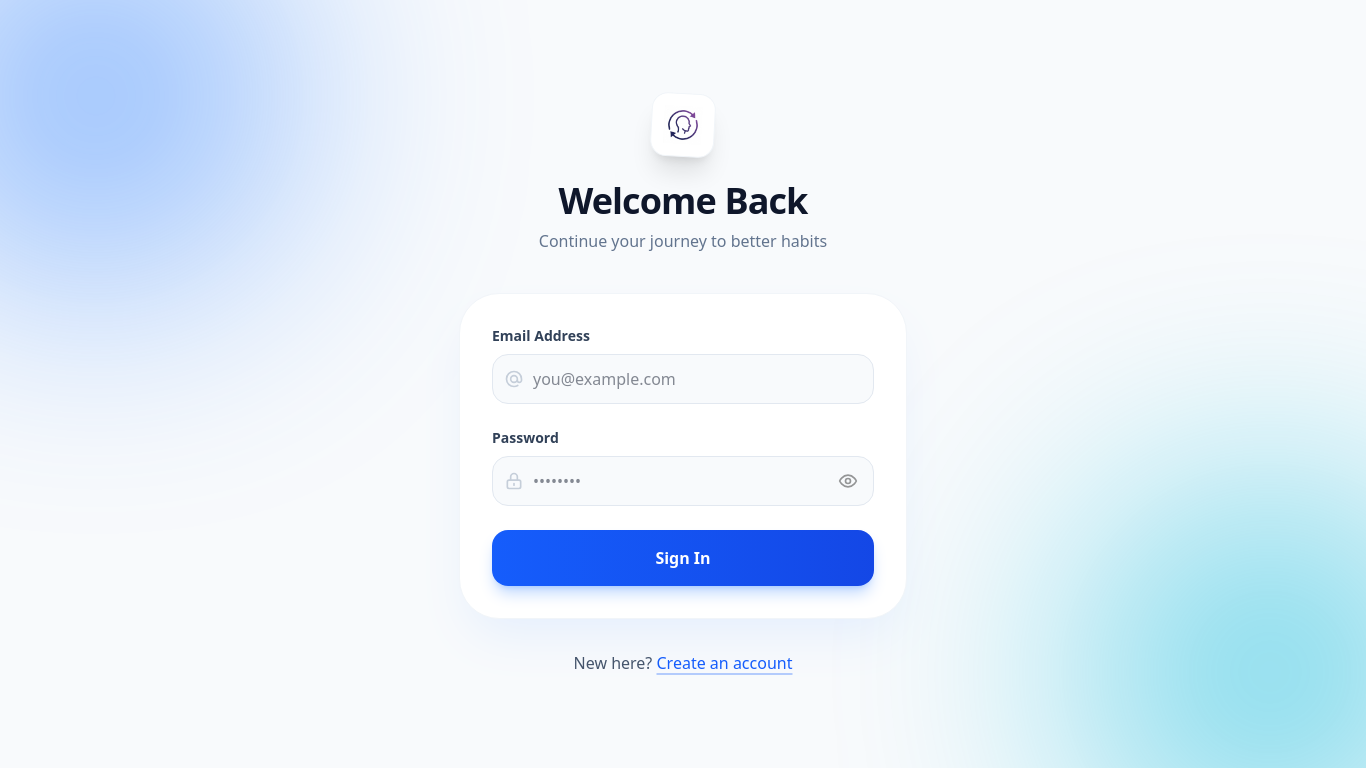
Test: auth flow › shows an error for invalid login credentials
In the field with test id "auth-login-email": (683,379) top-left (492, 354), bottom-right (874, 404), type "wrong@example.com"
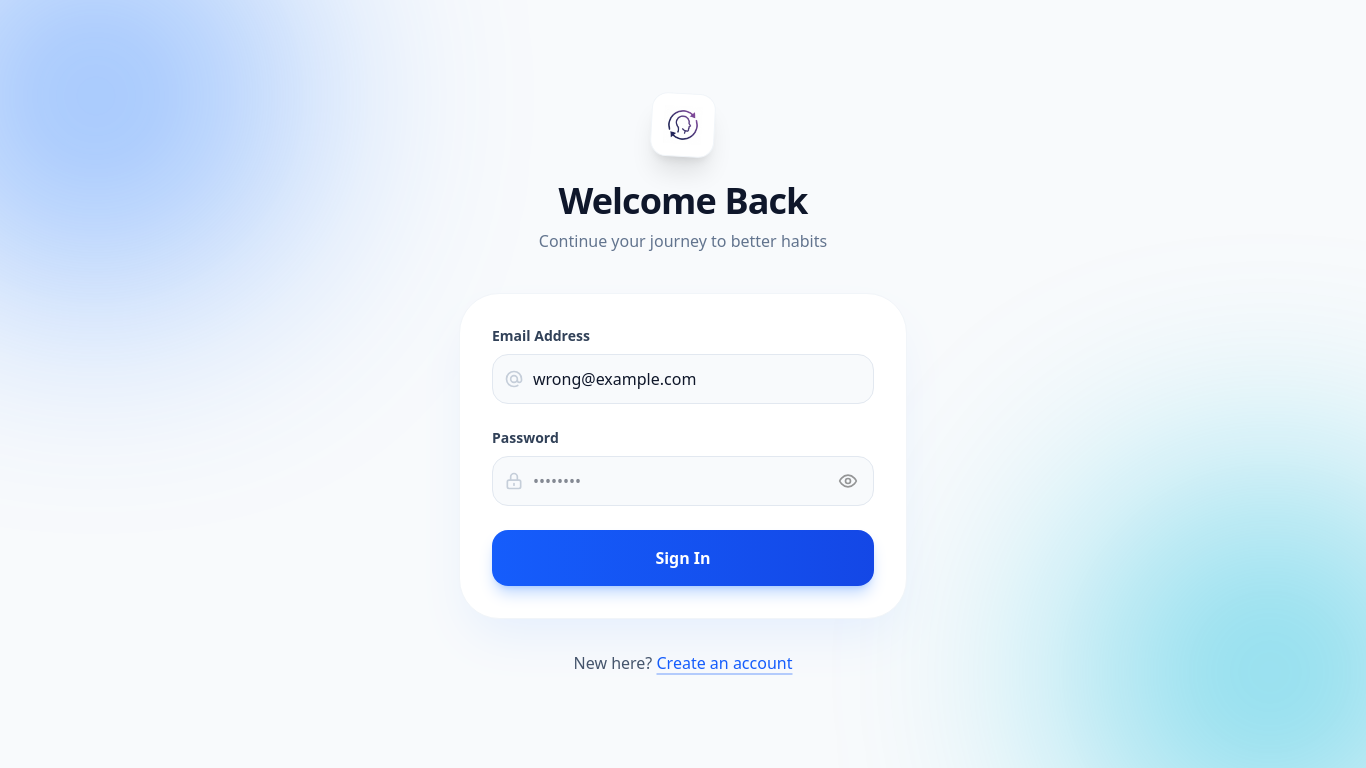
In the password field with test id "auth-login-password": (683,481) top-left (492, 456), bottom-right (874, 506), type "wrong"
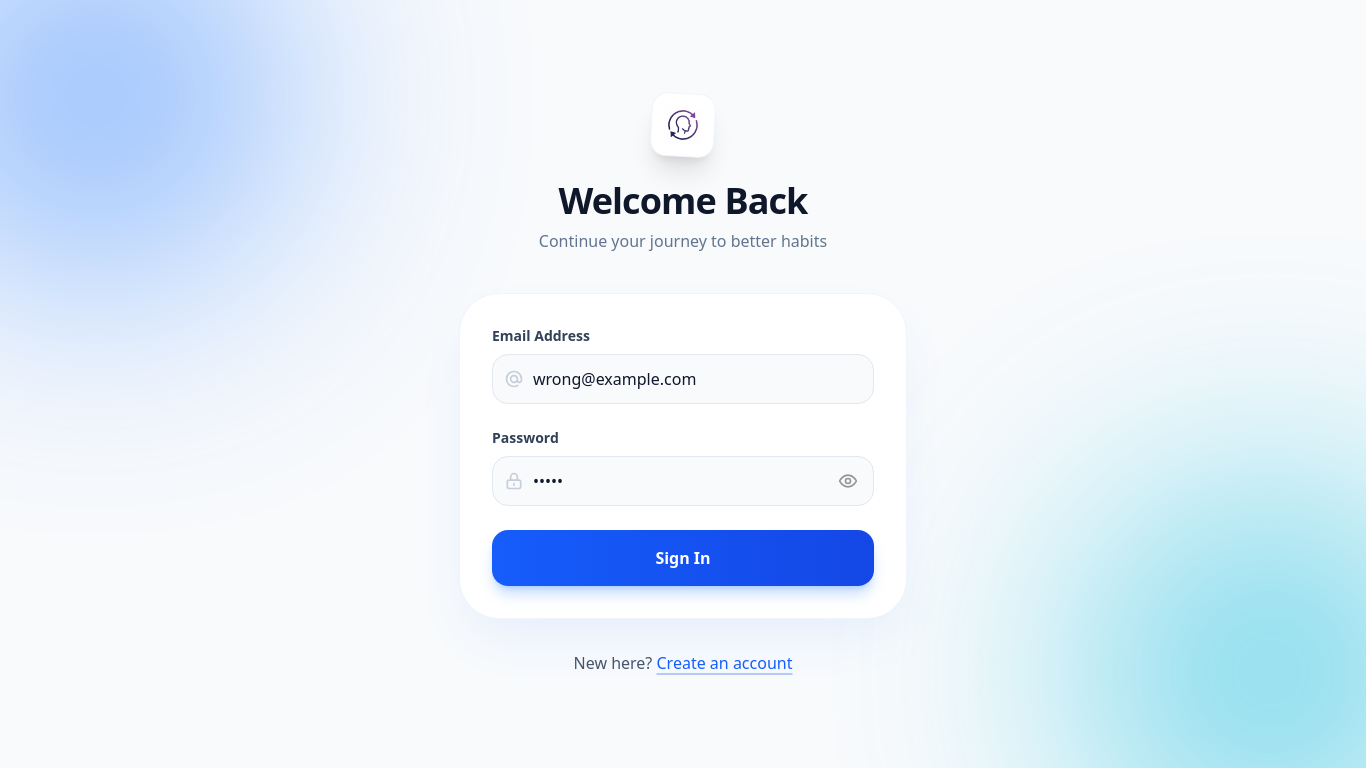
Click the button with test id "auth-login-submit": (683,558) top-left (492, 530), bottom-right (874, 586)
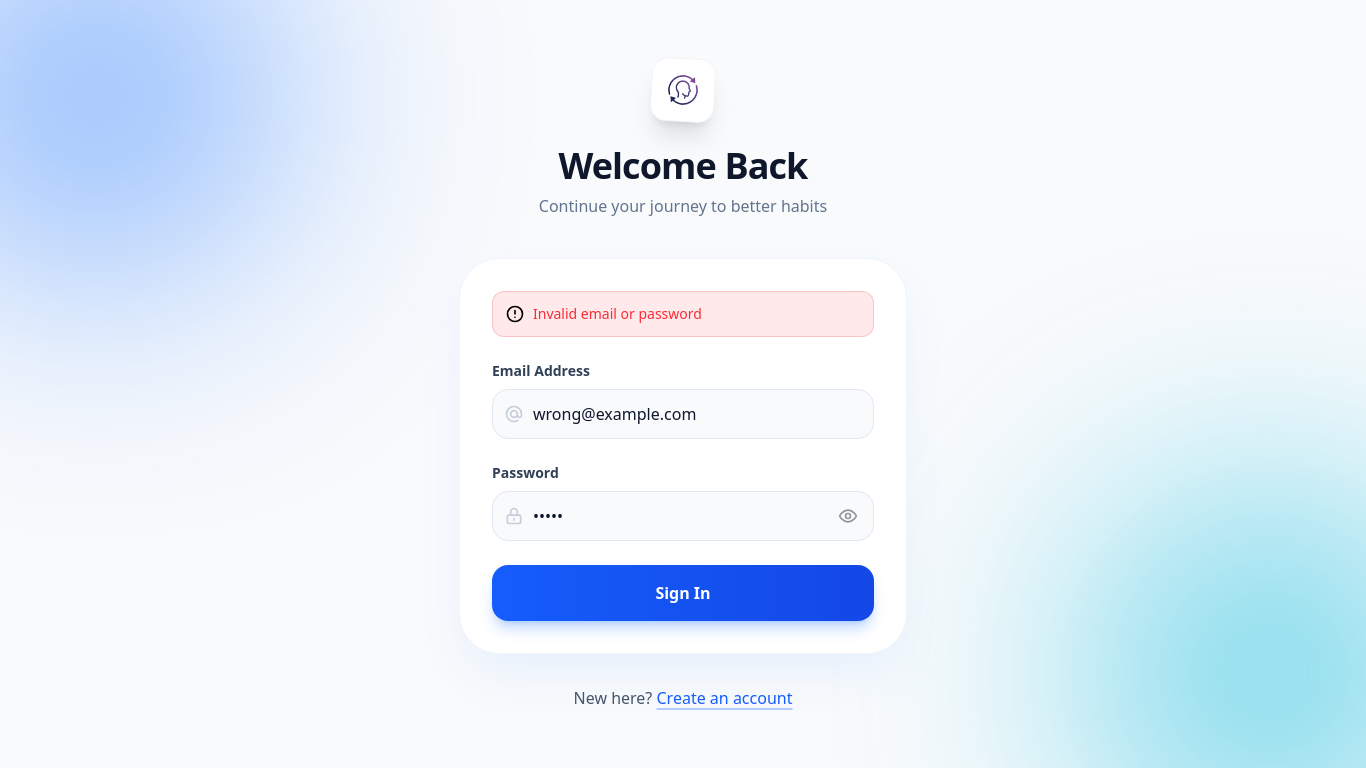
Result: the text "Invalid email or password" is shown at top-left (533, 304), bottom-right (702, 324)
